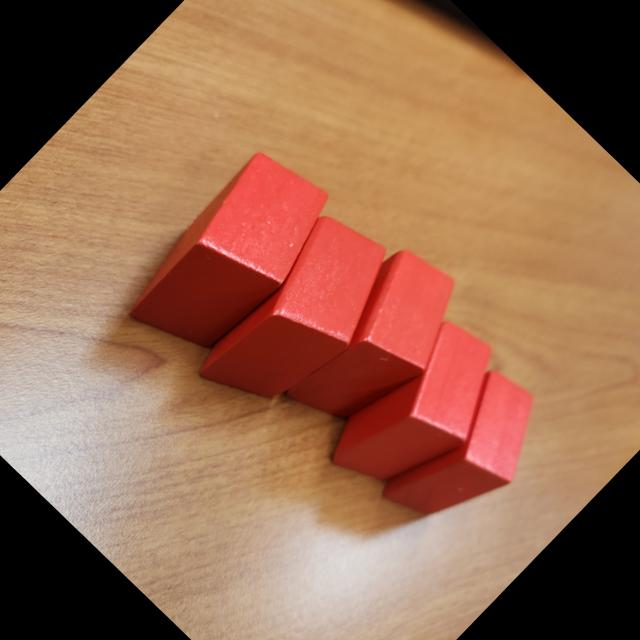red: (112, 138, 350, 380), (180, 199, 416, 438), (268, 236, 485, 454), (316, 307, 526, 521), (373, 359, 566, 554)
